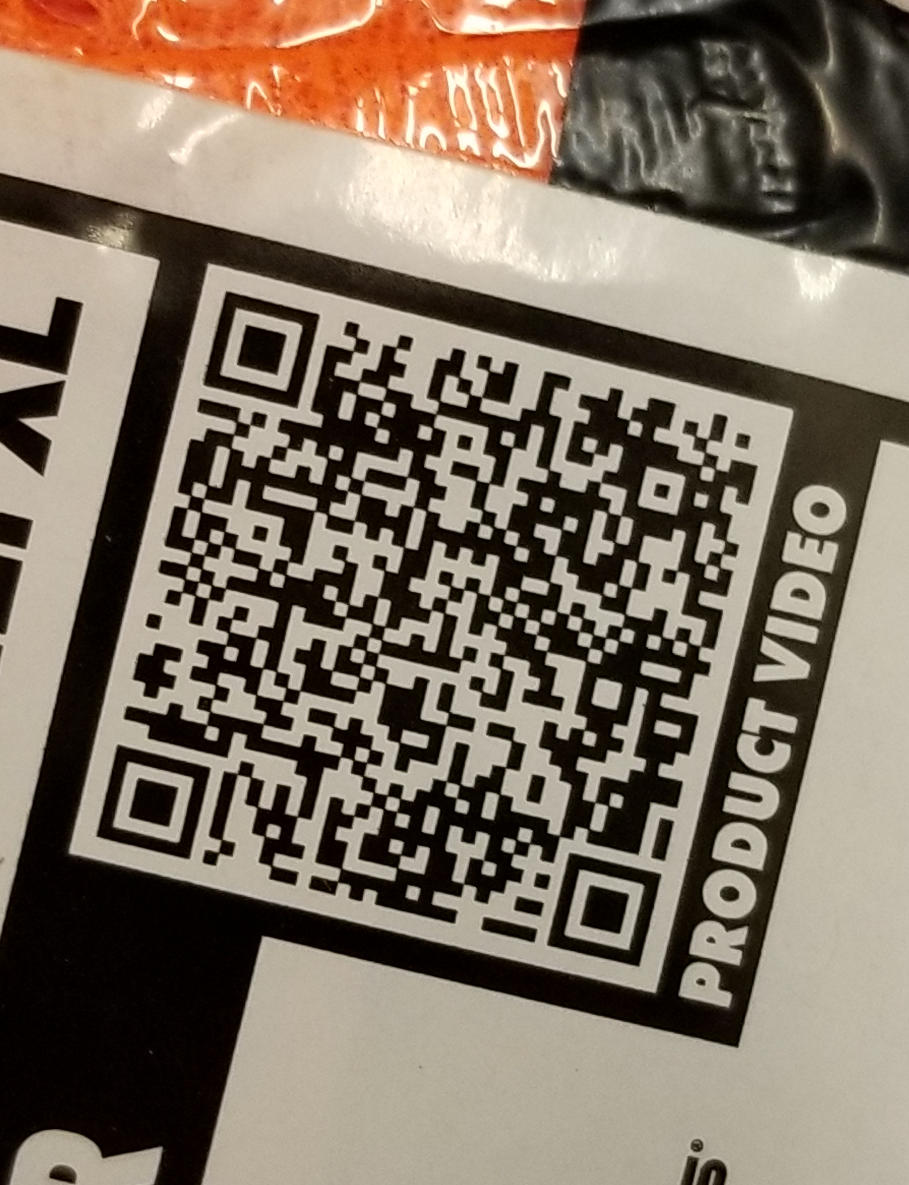QR_CODE: (83, 261, 779, 989)
